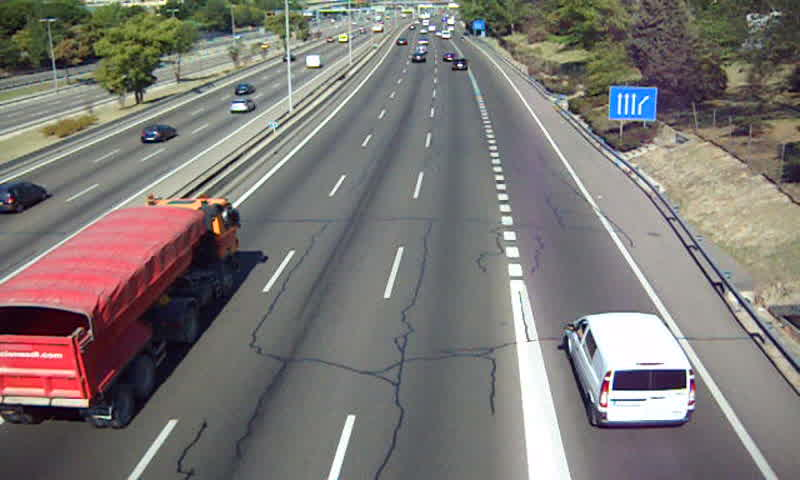car: (450, 58, 469, 72)
truck: (1, 200, 238, 429)
van: (564, 313, 696, 428)
